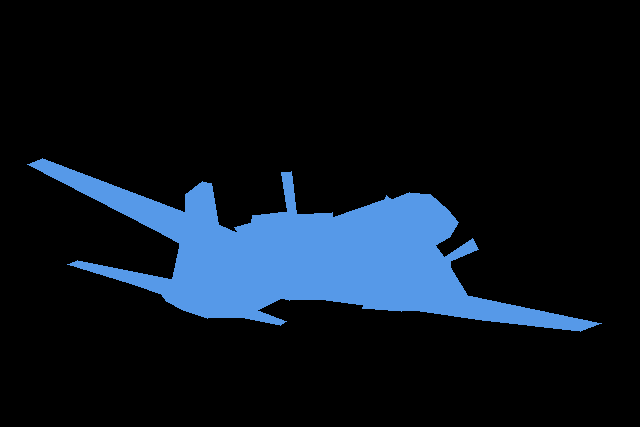Airplane: (27, 158, 601, 331)
